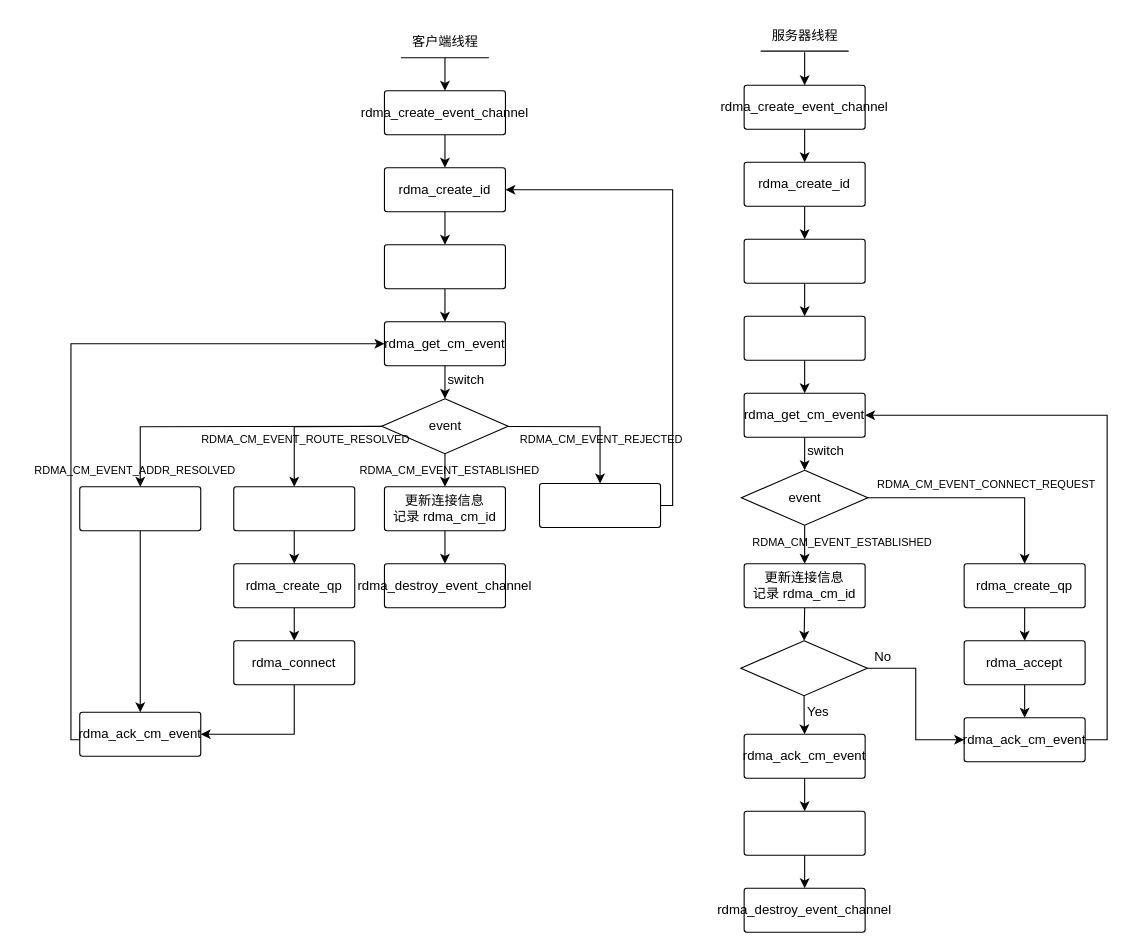
Image size: 1135x952. Some labels were removed from this diagram. The box of each missing label's shape, as (x1, y1, x2, y2) in pixels:
ibv_create_comp_channel ibv_create_cq: (233, 486, 355, 531)
rdma_bind_addr: (743, 238, 865, 283)
rdma_destroy_id: (743, 810, 865, 855)
rdma_destroy_qp: (538, 482, 661, 527)
rdma_listen: (743, 315, 865, 360)
rdma_resolve_addr: (383, 244, 505, 289)
rdma_resolve_route: (79, 486, 201, 531)
连接数目 == jiapid: (740, 640, 867, 696)
